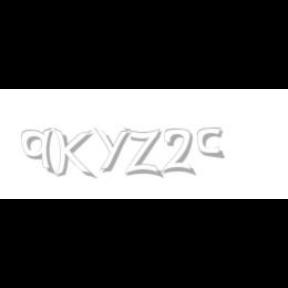2: (160, 128, 194, 176)
K: (53, 128, 93, 180)
Z: (124, 128, 162, 178)
c: (198, 128, 226, 160)
q: (21, 128, 57, 176)
y: (94, 128, 134, 172)
